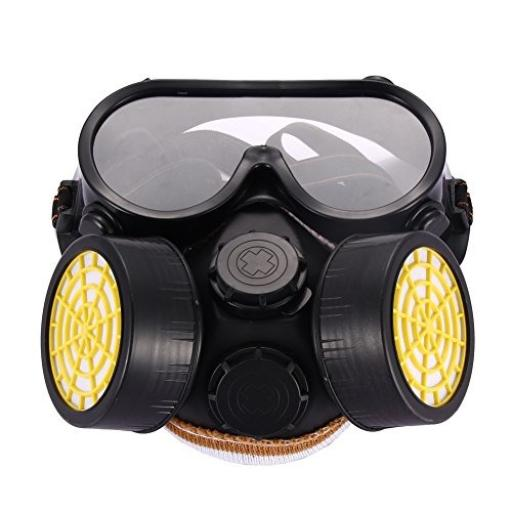mask: (6, 194, 512, 465)
